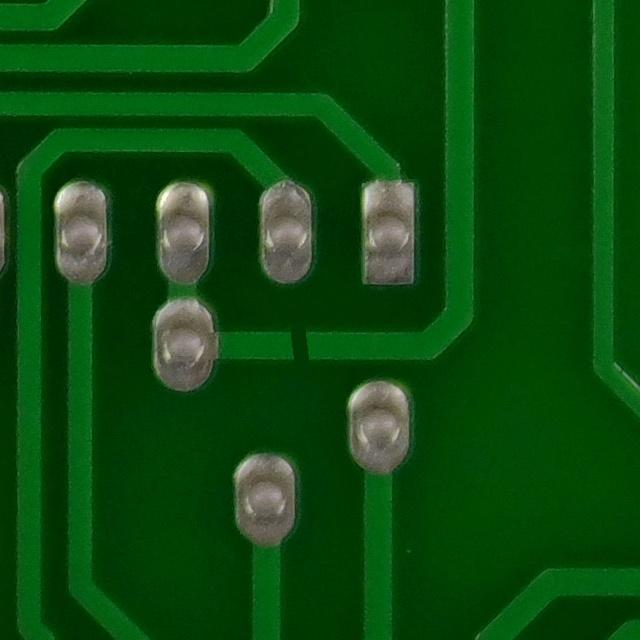open_circuit: (267, 314, 324, 377)
